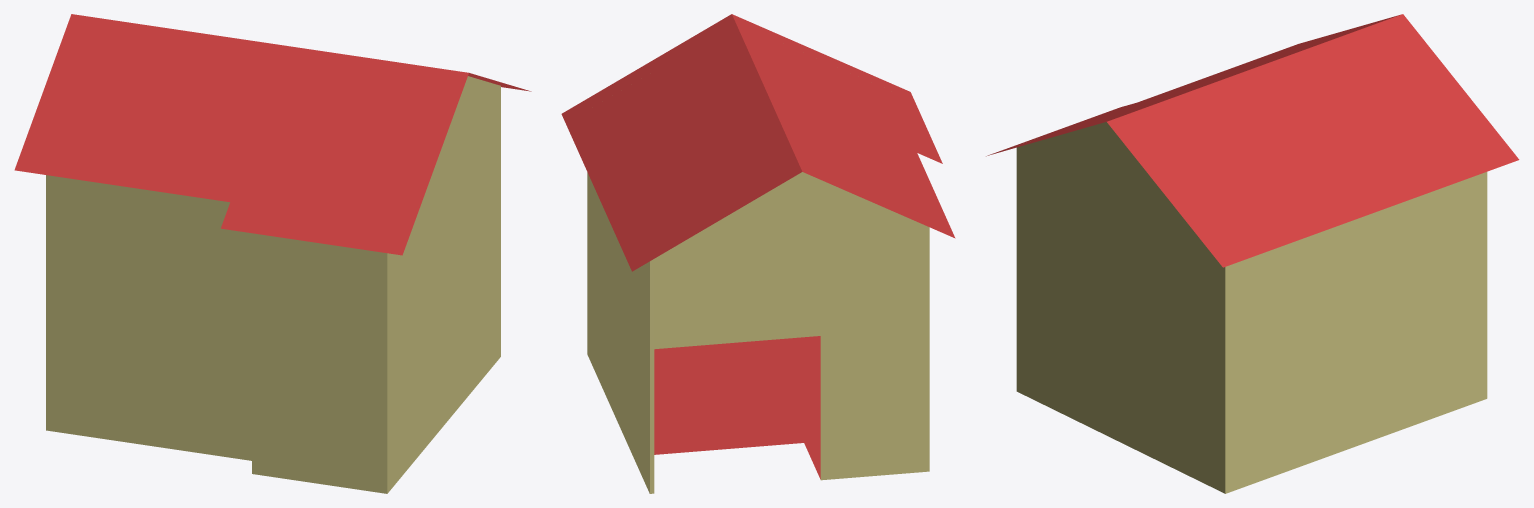
3 renders of one model, left to right at view 1: azimuth 30°, elevation 25°; view 2: azimuth 150°, elevation 25°; view 3: azimuth 270°, elevation 25°, orthographic. The views are drawn at different scales.
Bounding box in the file's own units: 16.76 × 17.52 × 11.87.
